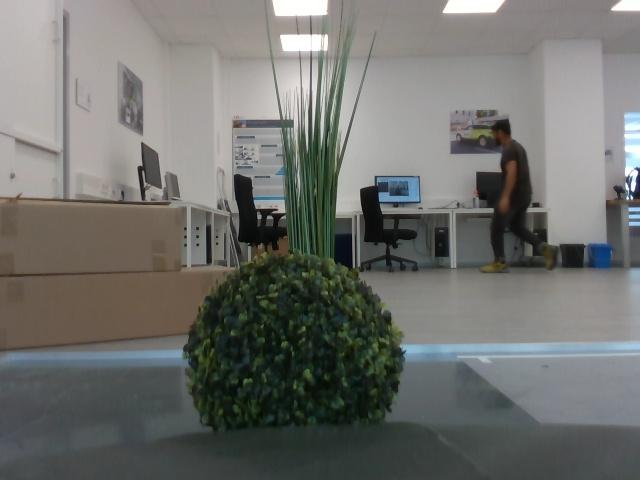potted plant: (182, 250, 407, 436), (260, 3, 376, 250)
